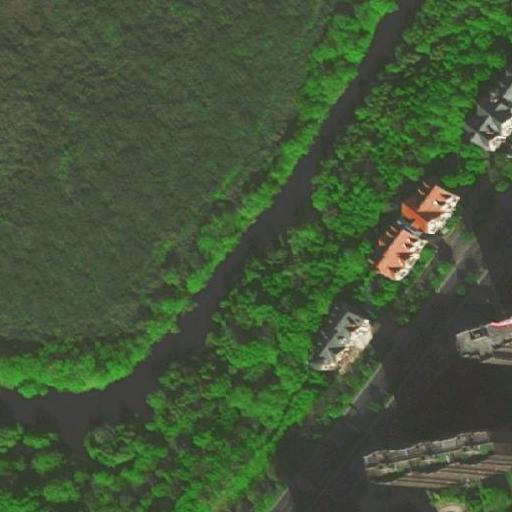building: (369, 431, 512, 502), (457, 52, 511, 153), (308, 301, 372, 370), (367, 223, 426, 286), (399, 180, 454, 233)
